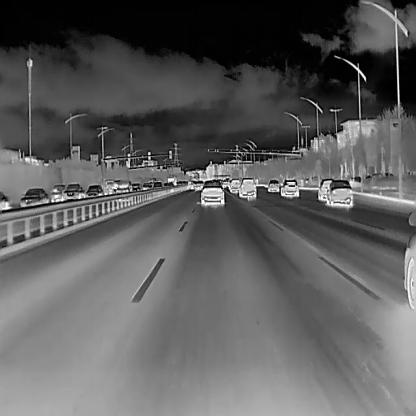bus: (115, 178, 133, 196)
car: (19, 186, 49, 212), (325, 177, 352, 204), (200, 178, 224, 206), (63, 181, 84, 204), (278, 177, 300, 197), (316, 177, 336, 199), (84, 183, 103, 204), (237, 177, 256, 198), (50, 184, 66, 202), (266, 177, 279, 193), (228, 177, 242, 191), (150, 180, 163, 192), (140, 183, 152, 195), (162, 180, 173, 192), (130, 182, 140, 194), (194, 179, 203, 189), (185, 180, 195, 188)
truck: (166, 175, 177, 187)
